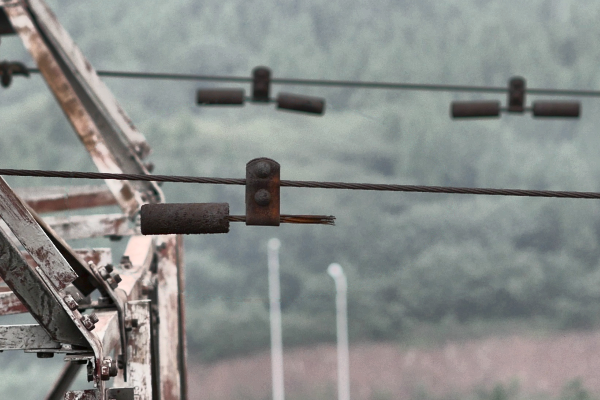damper: (192, 62, 327, 118), (447, 73, 583, 119)
damper_defect: (137, 154, 346, 240)
